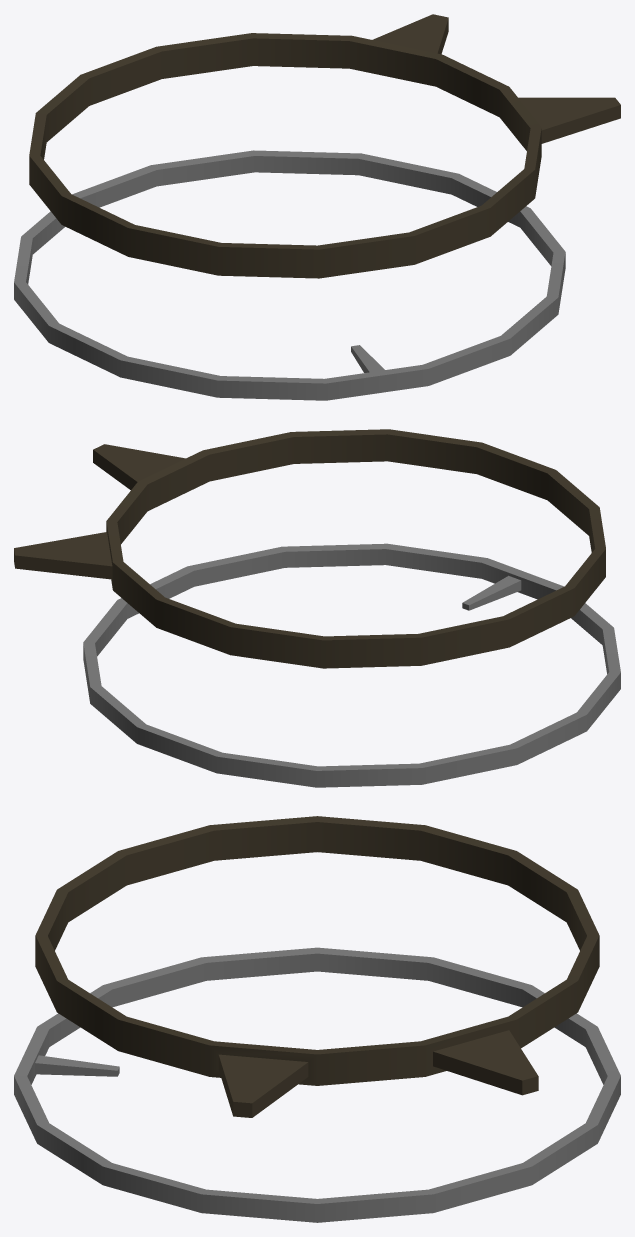
Rendered from Energy Ring2.fbx.
3 renders of one model, top to bottom at view 1: azimuth 30°, elevation 25°; view 2: azimuth 150°, elevation 25°; view 3: azimuth 270°, elevation 25°, orthographic. The views are drawn at different scales.
Visible parts, largest first — view 1: Energy Ring2; view 2: Energy Ring2; view 3: Energy Ring2.
Part boxes in pixels (box(x1,y1,x2,y2)): Energy Ring2: box(14, 14, 620, 400); Energy Ring2: box(14, 429, 620, 787); Energy Ring2: box(14, 816, 620, 1222).
Size of the model in its own units: 558 by 143 by 501.
